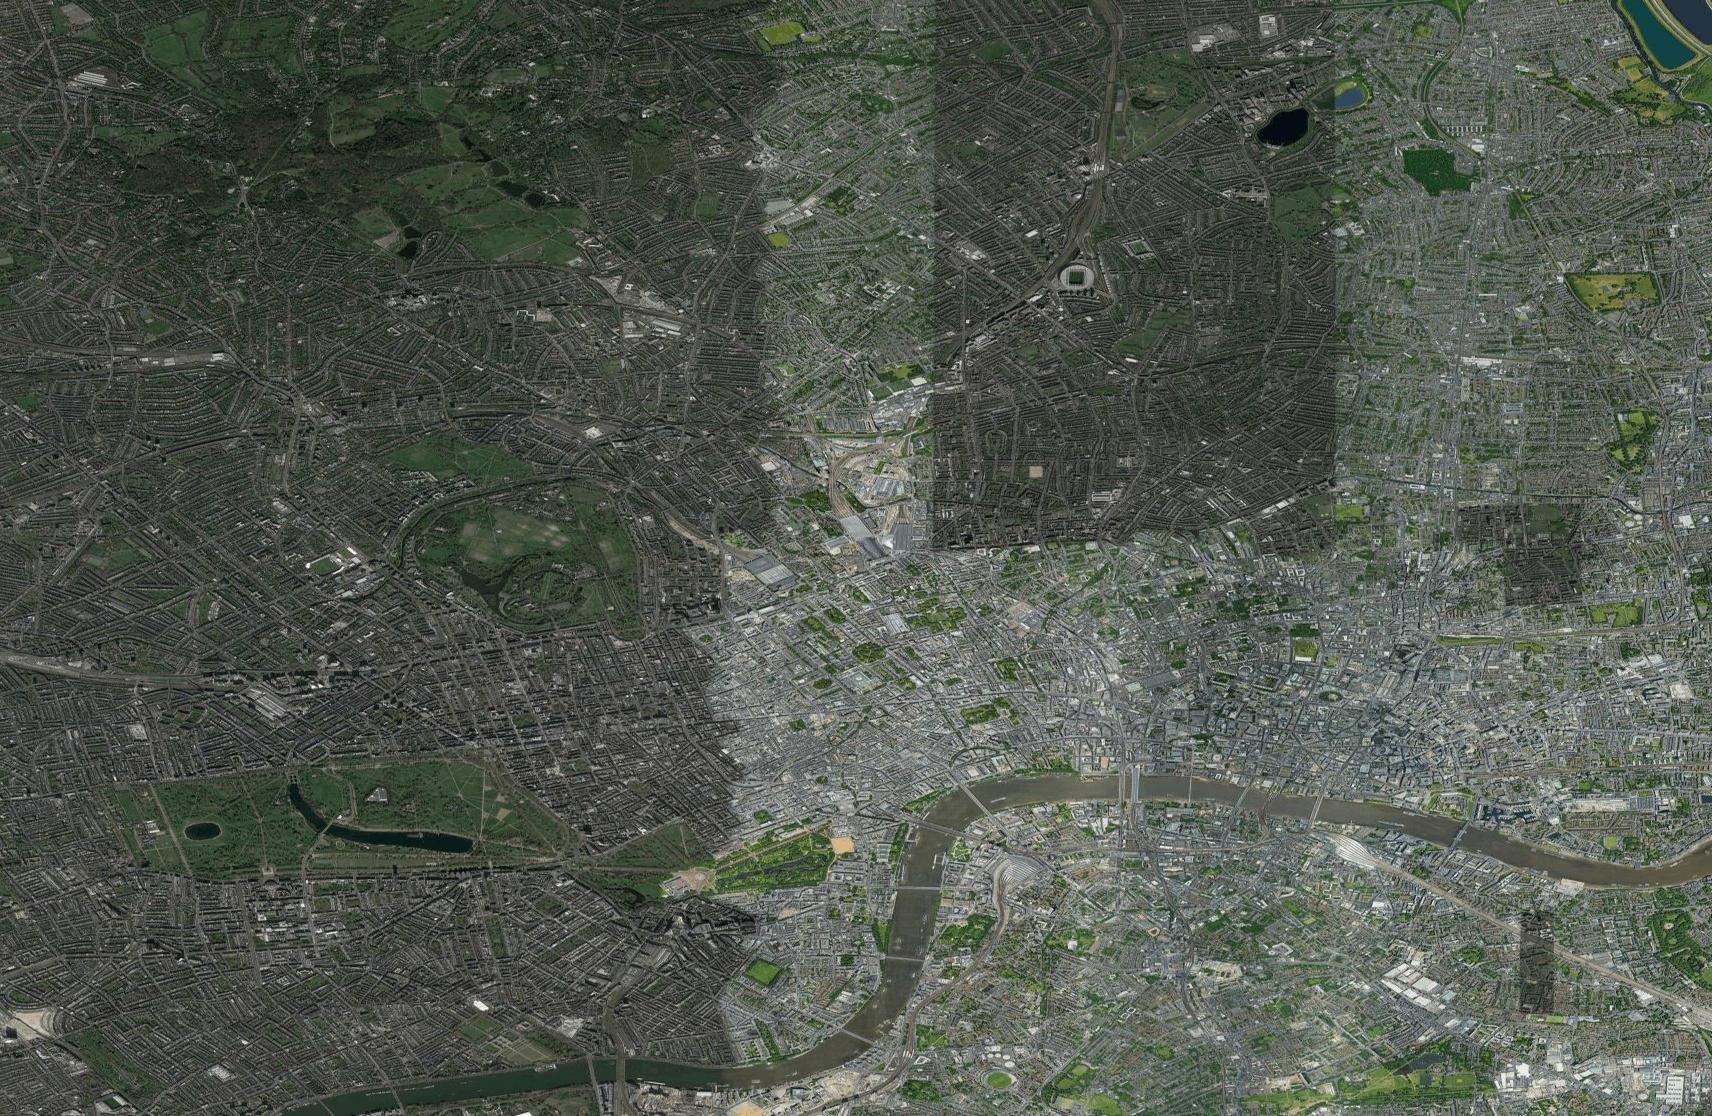bridge: (958, 780, 996, 821), (840, 1022, 881, 1050), (915, 818, 971, 836), (878, 949, 932, 967), (1444, 819, 1471, 849), (611, 1050, 630, 1089), (1232, 780, 1254, 811), (1113, 764, 1127, 809), (1305, 793, 1326, 821), (583, 1059, 599, 1094), (388, 1080, 406, 1107), (1129, 768, 1142, 803), (892, 884, 945, 890)
train_station: (731, 539, 801, 593), (827, 507, 878, 552)
